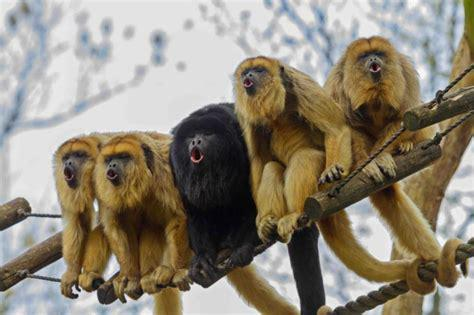monkey: (232, 57, 349, 242), (93, 131, 186, 300), (323, 34, 421, 184), (171, 103, 252, 284), (52, 132, 107, 297)
